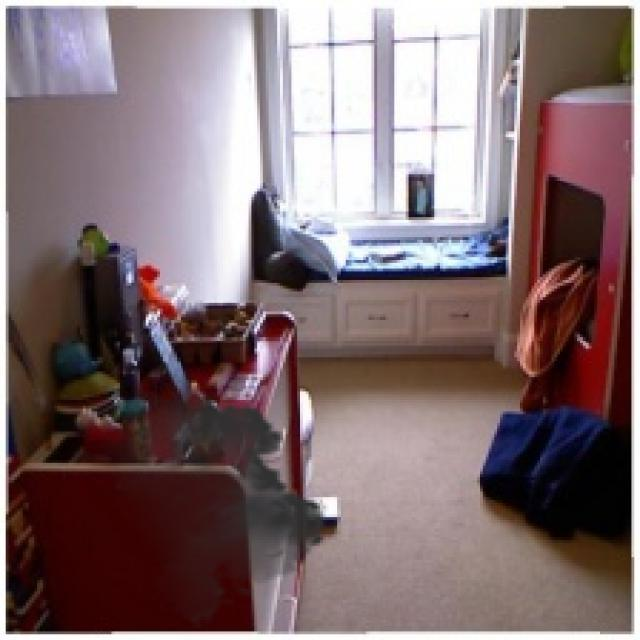smoke: (72, 383, 337, 631)
